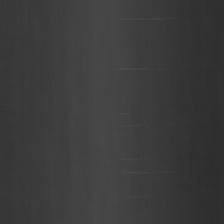waist_folding: (112, 17, 187, 215)
